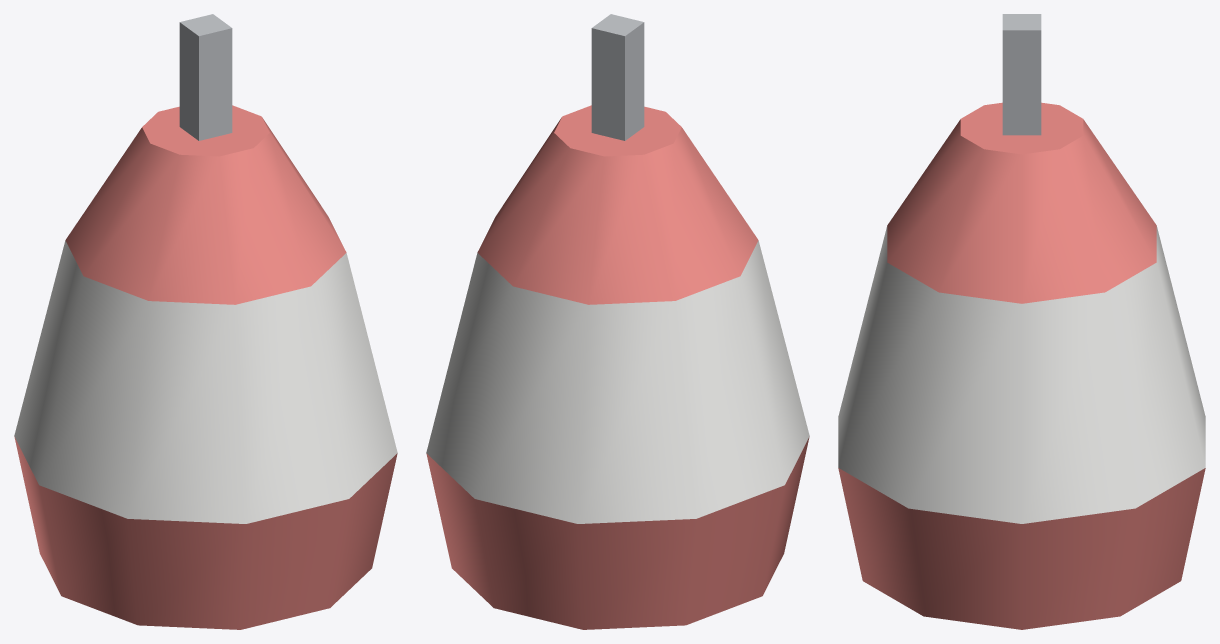
File: buoy.glb
3 views of the same model, side by side, from view 1: azimuth 30°, elevation 25°; view 2: azimuth 150°, elevation 25°; view 3: azimuth 270°, elevation 25° (orthographic).
Parts seen in each view (by area): view 1: buoy; view 2: buoy; view 3: buoy.
Part boxes in pixels (x1,y1,x2,y2): buoy: (14, 14, 397, 629); buoy: (426, 14, 809, 629); buoy: (838, 14, 1205, 629).
Bounding box in the file's own units: 0.6 × 0.92 × 0.5706.
